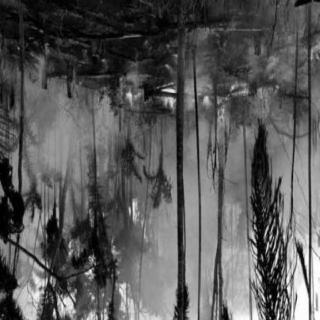Fire: (252, 83, 274, 117), (123, 90, 144, 109)
